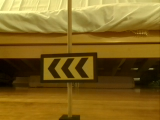left: (41, 55, 97, 81)
